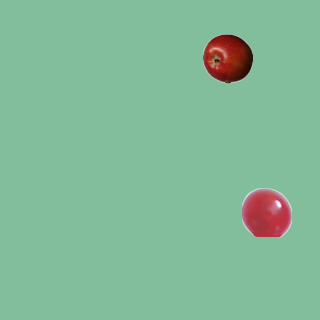Apple Braeburn: (202, 33, 252, 83)
Redcurrant: (241, 187, 291, 237)
